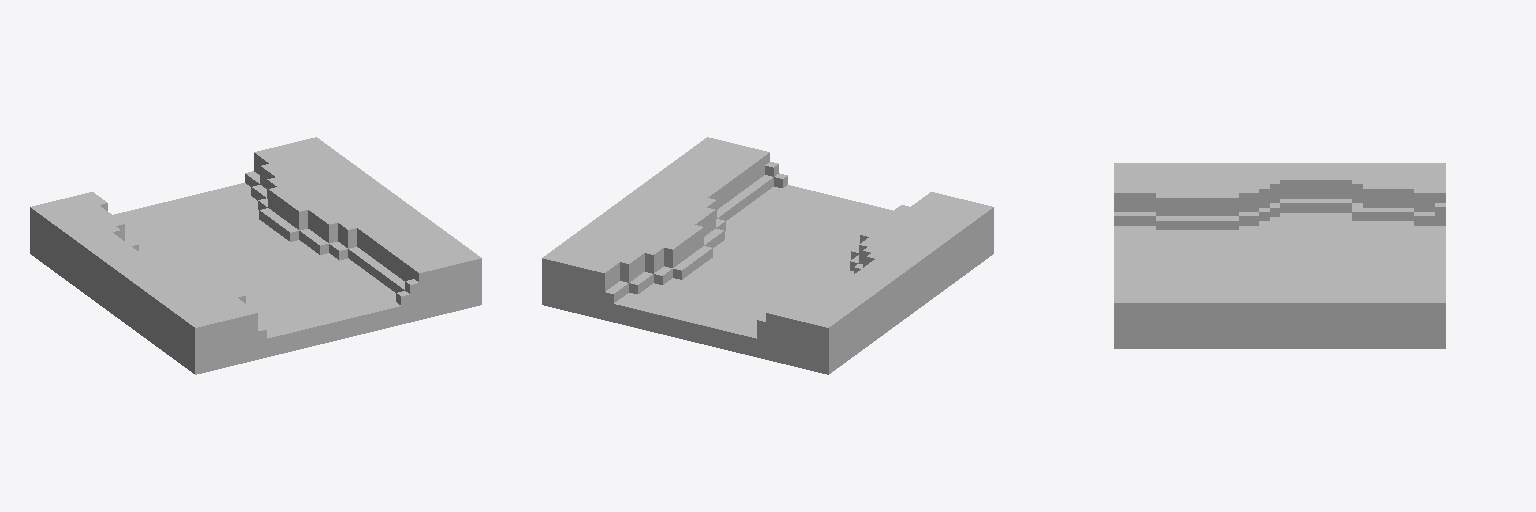
The model's file is Plaines Map-32.obj.
The picture shows the model from 3 angles: view 1: azimuth 30°, elevation 25°; view 2: azimuth 150°, elevation 25°; view 3: azimuth 270°, elevation 25°; orthographic projection.
Parts seen in each view (by area): view 1: object 1; view 2: object 1; view 3: object 1.
Boxes of the visible parts, box(x1,y1,x2,y2) form: object 1: box(30, 137, 481, 374); object 1: box(542, 137, 993, 374); object 1: box(1114, 163, 1445, 348).
Size of the model in its own units: 3.2 by 0.5 by 3.2.